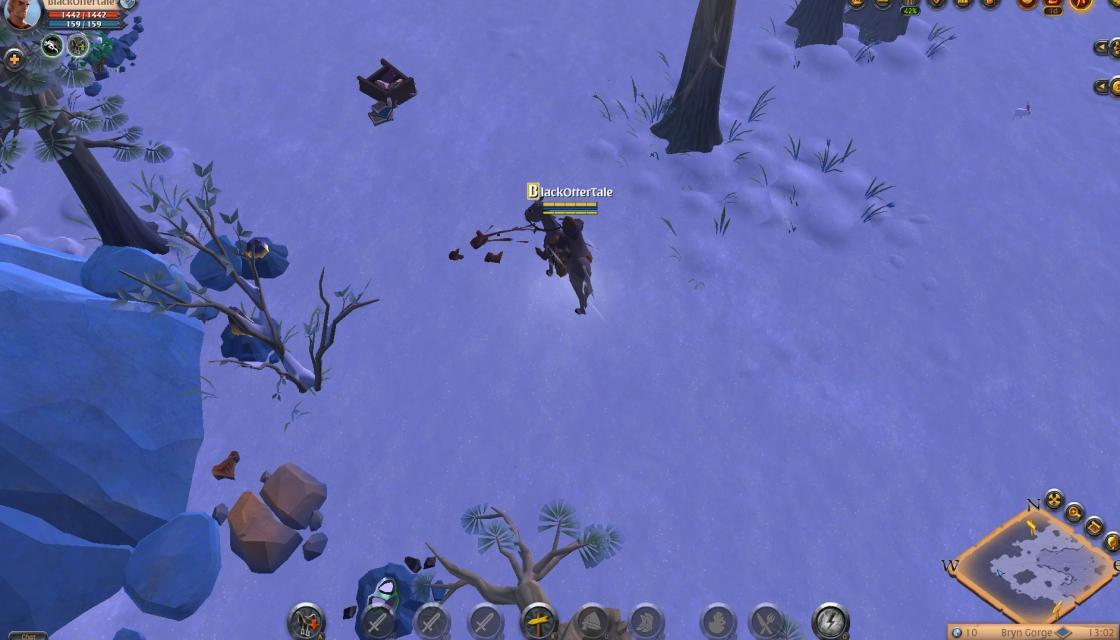copperore: (215, 307, 290, 372), (234, 232, 302, 278)
limestone: (225, 462, 330, 572)
